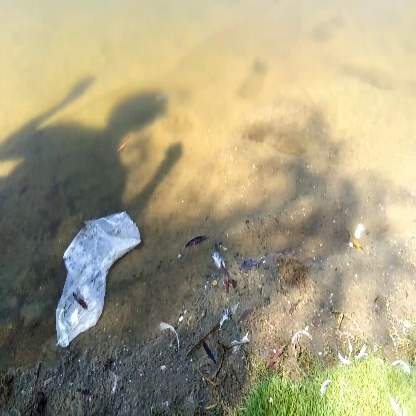plastic-bag: (51, 205, 145, 348)
